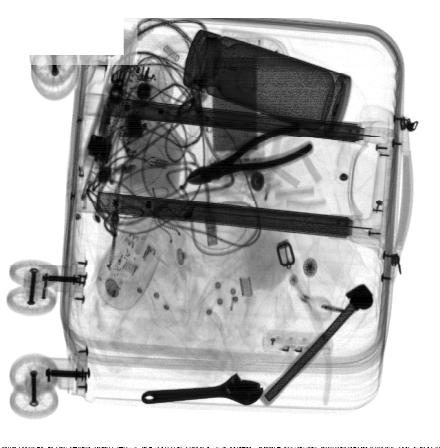Hammer: (262, 282, 373, 407)
Pliers: (183, 118, 314, 186)
Powerbank: (210, 55, 257, 154)
Wrench: (140, 370, 265, 405)
